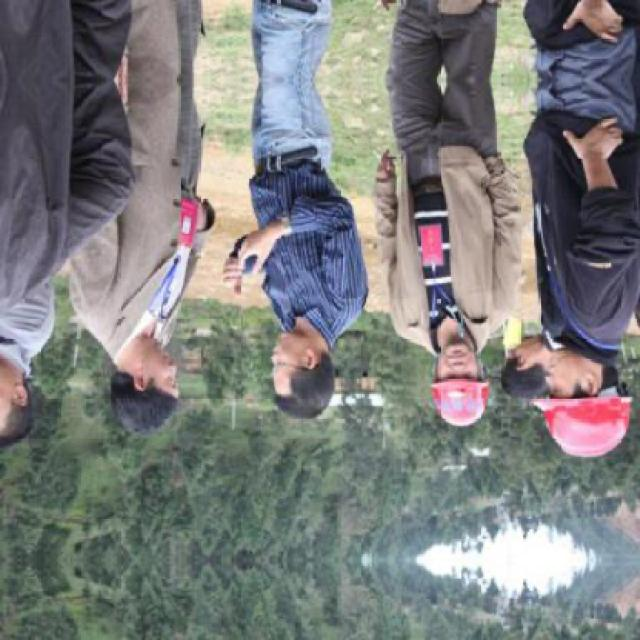con casco: (516, 359, 640, 458), (426, 358, 495, 436)
sin casco: (95, 362, 225, 432), (246, 339, 342, 422), (0, 335, 40, 461)
